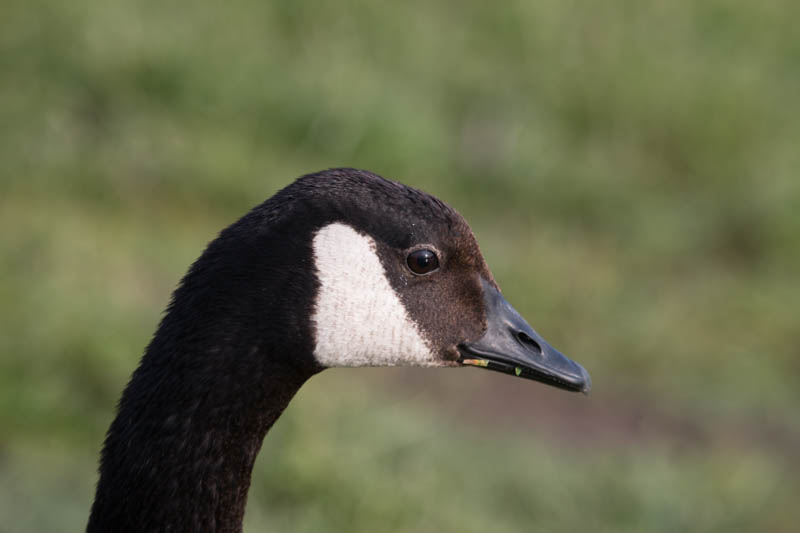goose-head: (254, 166, 593, 396)
